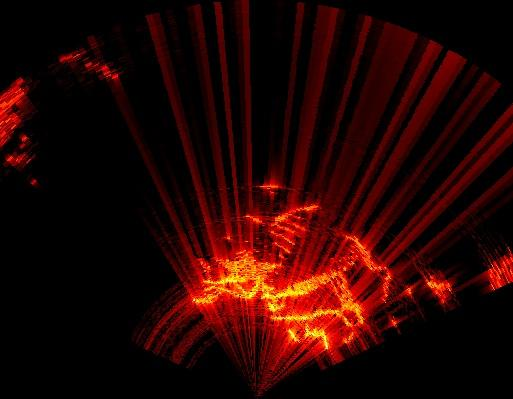shipwreck: (226, 233, 411, 363), (271, 218, 305, 261), (428, 273, 456, 306)
